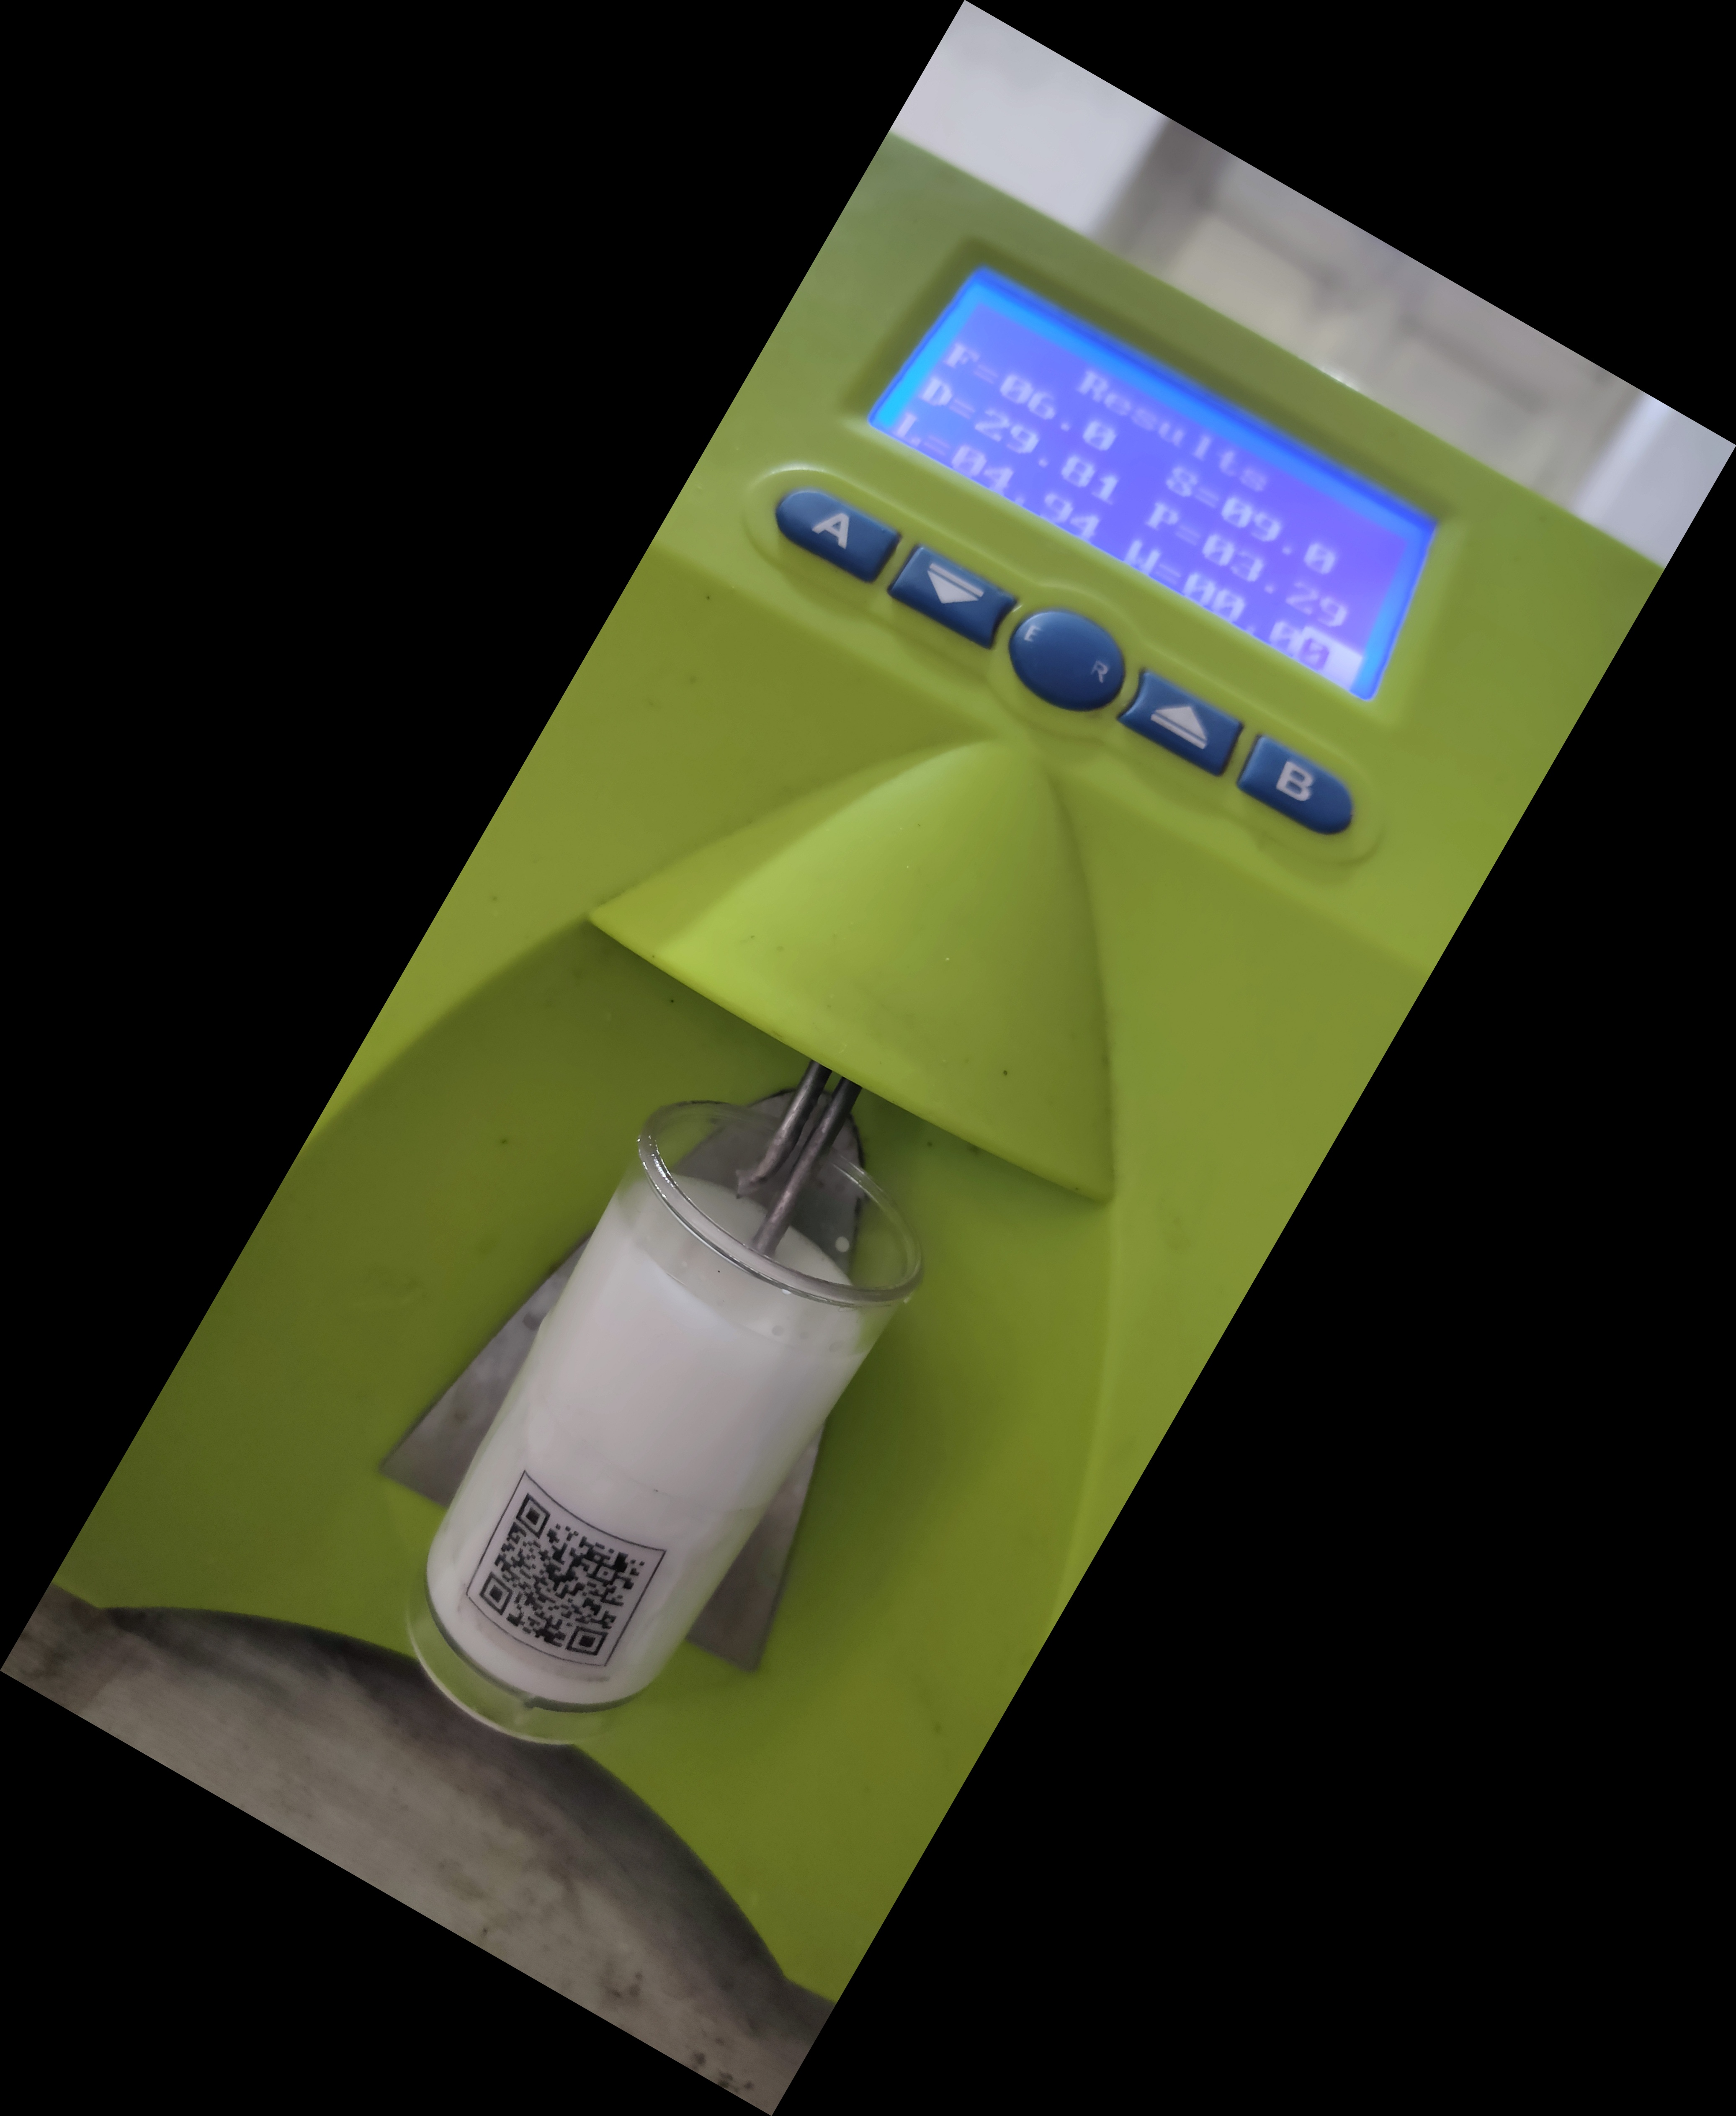lcd: (843, 250, 1450, 729)
qr: (441, 1480, 698, 1708)
